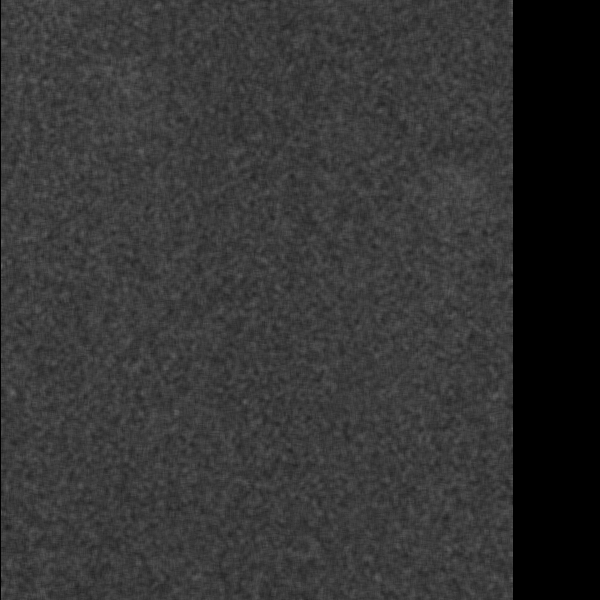spark: (6, 219, 66, 358), (308, 118, 345, 250), (322, 296, 345, 404), (313, 524, 340, 592), (152, 410, 178, 476)
